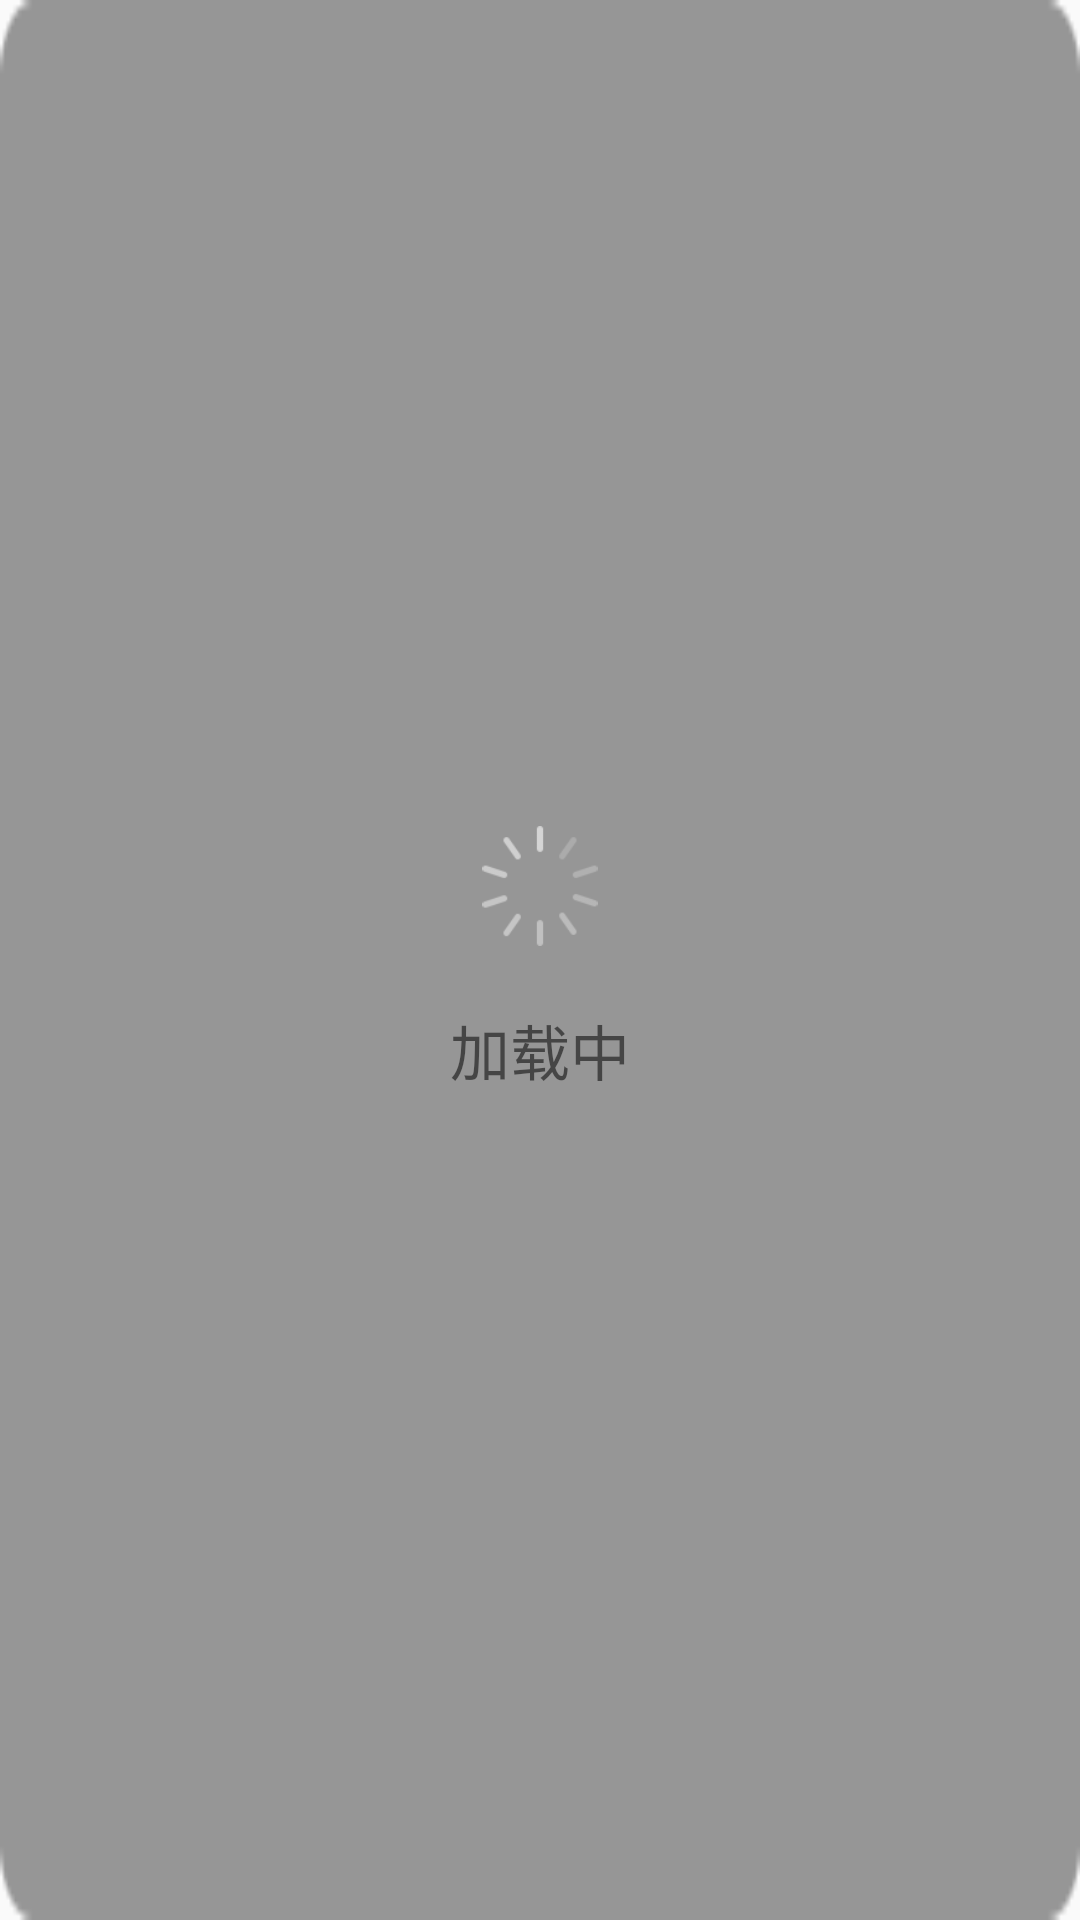

Icon bounding boxes for this 1080w x 1920h phone screenshot, format (x1, y1, x2, y2):
anim list progress: (482, 826, 598, 946)
